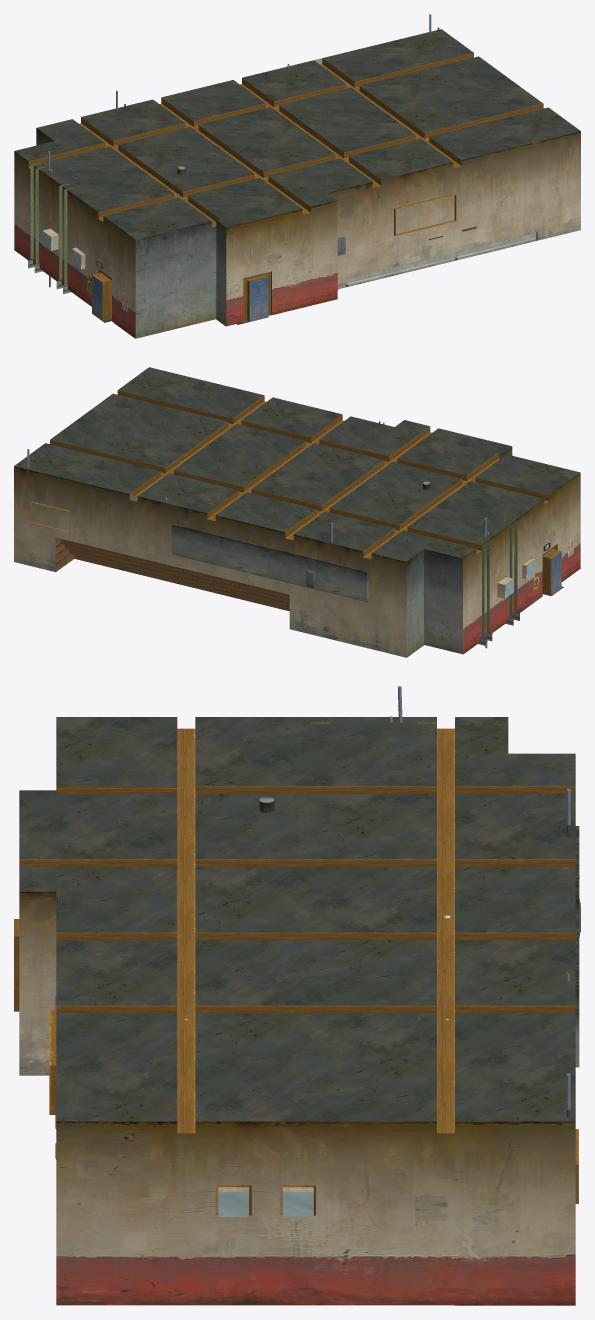
Rendered from boxing_ring.obj.
The picture shows the model from 3 angles, top to bottom: view 1: azimuth 30°, elevation 25°; view 2: azimuth 150°, elevation 25°; view 3: azimuth 270°, elevation 25°; orthographic projection. The views are drawn at different scales.
Parts seen in each view (by area): view 1: Mesh_0251, Mesh_0158, Mesh_0157, Mesh_0172, Mesh_0159, Mesh_0145, Mesh_0170, Mesh_0213, Mesh_0195, Mesh_0197, Mesh_0254, Mesh_0262 (+23 smaller); view 2: Mesh_0305, Mesh_0172, Mesh_0159, Mesh_0145, Mesh_0196, Mesh_0213, Mesh_0194, Mesh_0157, Mesh_0195, Mesh_0211, Mesh_0197, Mesh_0254 (+27 smaller); view 3: Mesh_0172, Mesh_0159, Mesh_0252, Mesh_0145, Mesh_0306, Mesh_0144, Mesh_0213, Mesh_0261, Mesh_0197, Mesh_0254, Mesh_0262, Mesh_0307 (+18 smaller).
Part boxes in pixels (<box>): Mesh_0251: <box>453,131,580,250</box>; Mesh_0158: <box>135,220,226,338</box>; Mesh_0157: <box>66,189,271,338</box>; Mesh_0172: <box>187,131,372,217</box>; Mesh_0159: <box>66,159,265,239</box>; Mesh_0145: <box>230,56,510,140</box>; Mesh_0170: <box>266,200,337,314</box>; Mesh_0213: <box>81,89,261,167</box>; Mesh_0195: <box>14,151,75,285</box>; Mesh_0197: <box>15,119,141,188</box>; Mesh_0254: <box>429,107,580,159</box>; Mesh_0262: <box>392,80,543,132</box>; Mesh_0305: <box>14,466,137,571</box>; Mesh_0172: <box>283,416,472,493</box>; Mesh_0159: <box>396,437,580,521</box>; Mesh_0145: <box>50,416,322,498</box>; Mesh_0196: <box>327,549,462,657</box>; Mesh_0213: <box>255,475,430,551</box>; Mesh_0194: <box>328,553,406,657</box>; Mesh_0157: <box>498,452,580,617</box>; Mesh_0195: <box>463,522,522,653</box>; Mesh_0211: <box>255,525,363,638</box>; Mesh_0197: <box>372,504,512,561</box>; Mesh_0254: <box>118,367,263,418</box>; Mesh_0172: <box>19,826,315,932</box>; Mesh_0159: <box>19,717,315,826</box>; Mesh_0252: <box>56,1121,215,1305</box>; Mesh_0145: <box>316,895,436,1121</box>; Mesh_0306: <box>437,1121,575,1305</box>; Mesh_0144: <box>316,1121,445,1305</box>; Mesh_0213: <box>316,794,575,895</box>; Mesh_0261: <box>186,1121,315,1305</box>; Mesh_0197: <box>316,717,575,786</box>; Mesh_0254: <box>56,1013,177,1121</box>; Mesh_0262: <box>195,1013,315,1121</box>; Mesh_0307: <box>455,1013,575,1121</box>.
Size of the model in its own units: 32.47 by 9.13 by 18.74.
